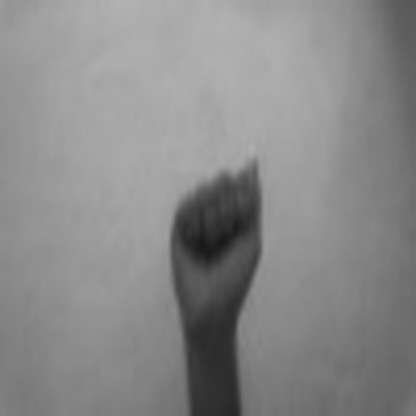a: (165, 134, 275, 326)
